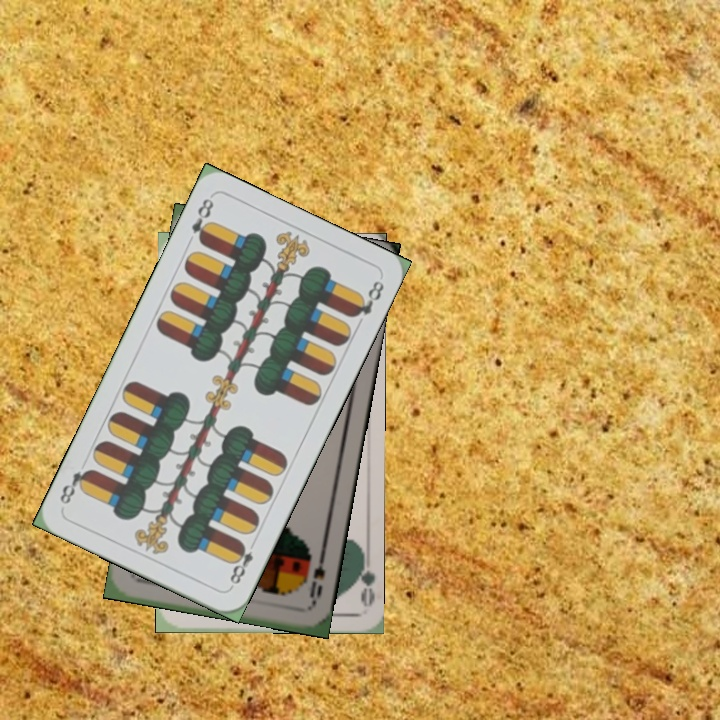E8: (225, 536, 259, 591), (187, 194, 217, 247)
GO: (349, 548, 376, 607)
SO: (305, 550, 328, 609)
